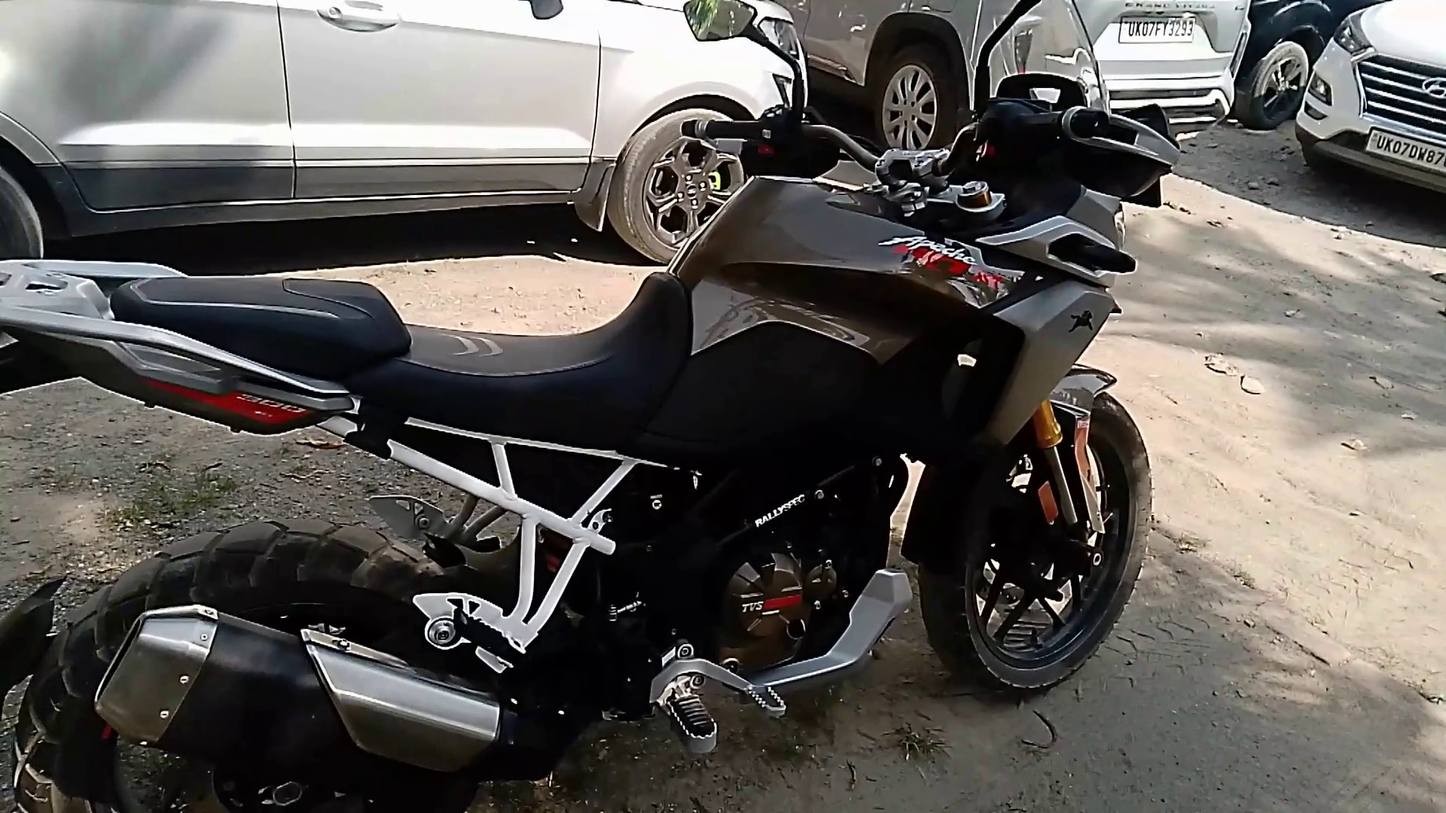bike-engine: (694, 525, 852, 676)
bike-engine-level: (717, 649, 742, 678)
bike-oil-cap: (781, 604, 809, 642)
